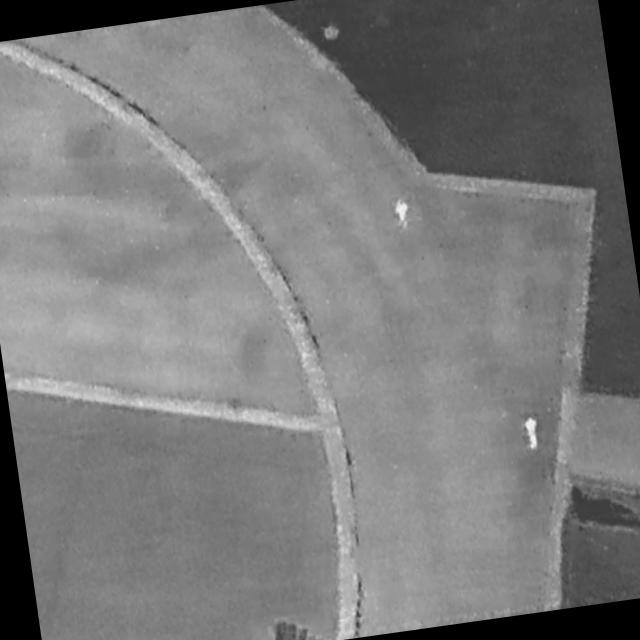person: (524, 417, 543, 453), (393, 198, 413, 232)
